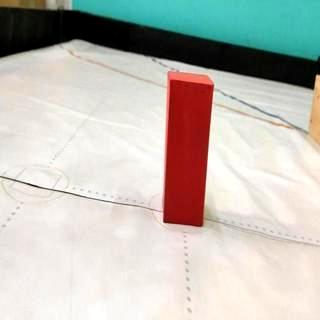redbox: (162, 69, 214, 227)
